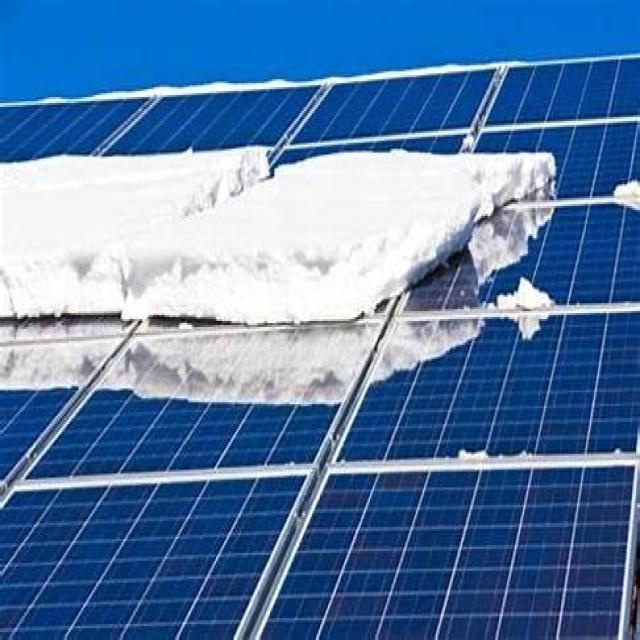panel: (399, 240, 532, 344), (448, 140, 572, 227), (200, 276, 294, 370), (342, 127, 450, 200), (245, 138, 358, 194), (302, 284, 379, 366), (501, 270, 571, 346), (0, 292, 75, 359), (92, 289, 168, 353), (149, 122, 240, 173), (54, 125, 142, 173), (343, 290, 406, 354), (180, 292, 240, 351), (260, 298, 320, 357), (444, 432, 509, 480), (0, 140, 60, 180), (613, 166, 640, 221)
